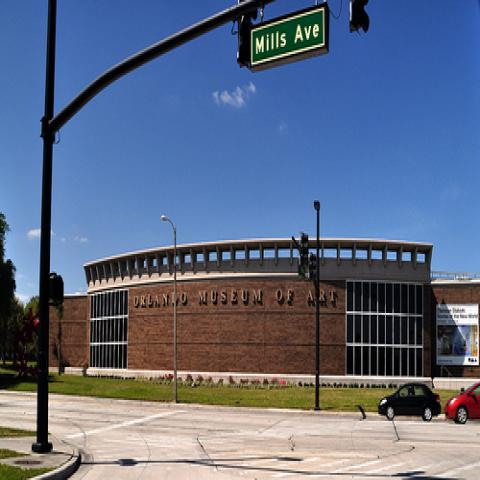car: (379, 382, 441, 422), (443, 379, 479, 426)
